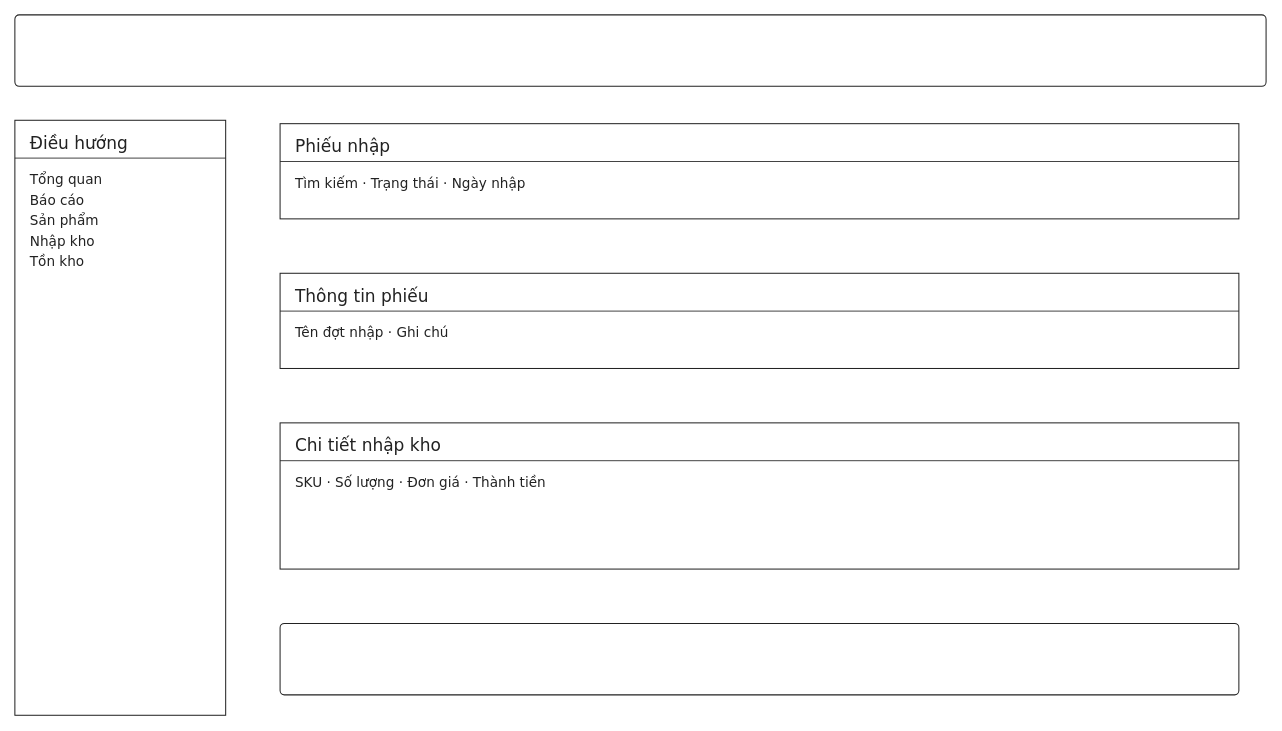
The diagram is 1282 pixels wide and 731 high, and some of its shapes have lost their labels. Here are the shapes that lost their labels. From the top down, the centre of each, then its label:
point 640,50: Quản trị kho
point 759,659: Ghi nhận phiếu nhập
